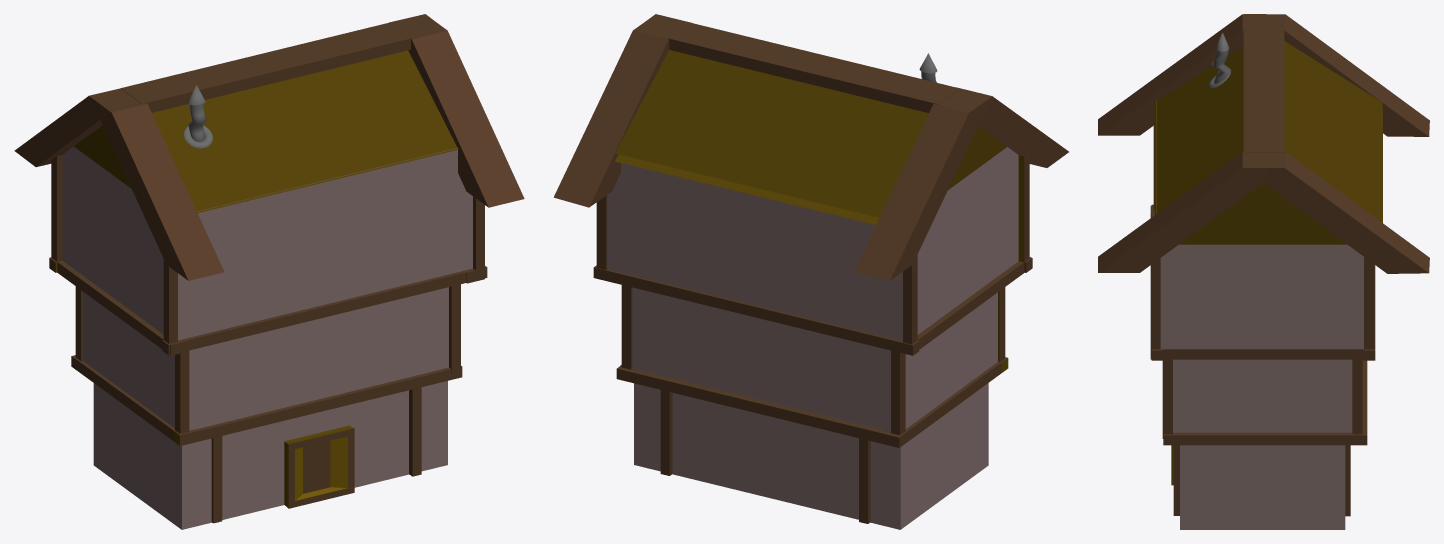
File: Maison Proto 3.fbx
3 views of the same model, side by side, from view 1: azimuth 30°, elevation 25°; view 2: azimuth 150°, elevation 25°; view 3: azimuth 270°, elevation 25° (orthographic). The views are drawn at different scales.
Visible parts, largest first — view 1: pCube35; view 2: pCube35; view 3: pCube35.
Part boxes in pixels (x1,y1,x2,y2): pCube35: (14,14,524,529); pCube35: (553,14,1068,529); pCube35: (1098,14,1429,529).
Size of the model in its own units: 4.8 by 5.68 by 4.34.
